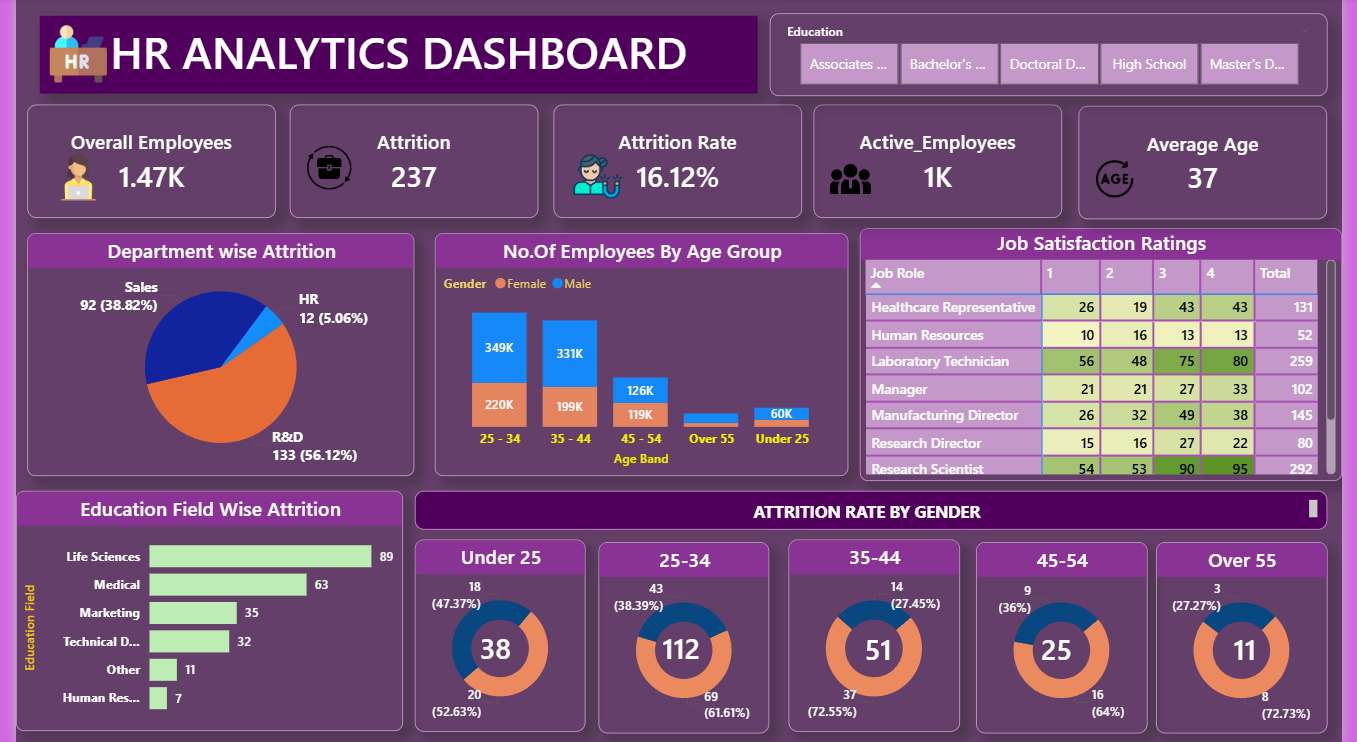

The dashboard page shown, as its layout file describes it:
{"tool":"powerbi","page":{"name":"Attrition Overview","canvas":[1280,720],"ordinal":0},"visuals":[{"type":"textbox","box":[23.3,17.8,693,75.5],"z":0},{"type":"image","box":[32.6,19.3,55.5,71.2],"z":1000},{"type":"pieChart","title":"Department wise Attrition","fields":{"Category":["HR data.Department"],"Y":["Sum(HR data.Attrition_Count)"]},"box":[10.9,228,374,234],"z":2000},{"type":"columnChart","title":"No.Of Employees By Age Group","fields":{"Category":["HR data.CF_age band"],"Y":["CountNonNull(HR data.Employee Number)"],"Series":["HR data.Gender"]},"box":[394.5,228,399.3,234],"z":3000},{"type":"pivotTable","title":"Job Satisfaction Ratings","fields":{"Rows":["HR data.Job Role"],"Columns":["HR data.Job Satisfaction"],"Values":["CountNonNull(HR data.Employee Number)"]},"box":[799.9,228,465.7,238.9],"z":4000},{"type":"barChart","title":"Education Field Wise Attrition","fields":{"Category":["HR data.Education Field"],"Y":["Sum(HR data.Attrition_Count)"],"Series":["HR data.Gender"]},"box":[10.9,479,374,231.6],"z":5000},{"type":"cardVisual","fields":{"Data":["HR data.Active_Employees"]},"box":[774.3,118.2,240.1,100],"z":6000},{"type":"cardVisual","fields":{"Data":["CountNonNull(HR data.Employee Count)"]},"box":[20.7,118.9,240.1,100],"z":6000,"group":"g7"},{"type":"cardVisual","fields":{"Data":["Sum(HR data.Attrition_Count)"]},"box":[271.9,120.6,240.1,100],"z":7000,"group":"g9"},{"type":"textbox","box":[400.5,476.5,861.4,45.8],"z":7000},{"type":"cardVisual","fields":{"Data":["HR data.Attrition_Rate"]},"box":[523.1,118.2,240.1,99.9],"z":8000,"group":"g5"},{"type":"donutChart","title":"25-34","fields":{"Category":["HR data.Gender"],"Series":["HR data.CF_age band"],"Y":["Sum(HR data.Attrition_Count)"]},"box":[565.8,521.2,174.9,184.6],"z":8000},{"type":"slicer","fields":{"Values":["HR data.Education"]},"box":[727.5,15.7,538.1,79.6],"z":9000},{"type":"cardVisual","fields":{"Data":["Avg(HR data.Age)"]},"box":[1025.5,117,240.1,100],"z":10000,"group":"g8"},{"type":"image","box":[781.8,154.4,47.1,42.2],"z":10000},{"type":"group","id":"g1","title":"Group 2","box":[400.5,521.2,165.3,185.8],"z":11000},{"type":"donutChart","title":"Under 25","fields":{"Category":["HR data.Gender"],"Y":["Sum(HR data.Attrition_Count)"],"Series":["HR data.CF_age band"]},"box":[400.5,521.2,165.3,185.8],"z":11000,"group":"g1"},{"type":"group","id":"g2","title":"Group 3","box":[740.8,521.2,174.9,185.8],"z":12000},{"type":"group","id":"g3","title":"Group 4","box":[915.7,521.2,174.9,184.6],"z":13000},{"type":"donutChart","title":"35-44","fields":{"Category":["HR data.Gender"],"Y":["Sum(HR data.Attrition_Count)"],"Series":["HR data.CF_age band"]},"box":[740.8,521.2,174.9,185.8],"z":14000,"group":"g10"},{"type":"group","id":"g4","title":"Group 5","box":[1087,521.2,174.9,184.6],"z":14000},{"type":"group","id":"g5","title":"Group 6","box":[523.1,118.2,240.1,100],"z":15000},{"type":"donutChart","title":"45-54","fields":{"Category":["HR data.Gender"],"Y":["Sum(HR data.Attrition_Count)"],"Series":["HR data.CF_age band"]},"box":[915.7,521.2,174.9,184.6],"z":15000,"group":"g3"},{"type":"group","id":"g6","title":"Group 7","box":[271.9,120.6,240.1,100],"z":16000},{"type":"donutChart","title":"Over 55","fields":{"Category":["HR data.Gender"],"Y":["Sum(HR data.Attrition_Count)"],"Series":["HR data.CF_age band"]},"box":[1087,521.2,174.9,184.6],"z":16000,"group":"g4"},{"type":"group","id":"g7","title":"Group 8","box":[20.7,118.9,240.1,100],"z":17000},{"type":"cardVisual","fields":{"Data":["Sum(HR data.Attrition_Count)"]},"box":[433.5,564.9,100.1,120.6],"z":17000,"group":"g1"},{"type":"group","id":"g8","title":"Group 10","box":[1025.5,117,240.1,100],"z":18000},{"type":"image","box":[1040,154.4,47.1,47.1],"z":19000},{"type":"cardVisual","fields":{"Data":["Sum(HR data.Attrition_Count)"]},"box":[788,565.8,106,119.4],"z":19000,"group":"g10"},{"type":"cardVisual","fields":{"Data":["Sum(HR data.Attrition_Count)"]},"box":[951.7,563.3,106,119.4],"z":20000,"group":"g3"},{"type":"cardVisual","fields":{"Data":["Sum(HR data.Attrition_Count)"]},"box":[603.2,569.4,124.3,112.2],"z":20000},{"type":"group","id":"g9","title":"Group 9","box":[271.9,120.6,240.1,100],"z":20001,"group":"g6"},{"type":"cardVisual","fields":{"Data":["Sum(HR data.Attrition_Count)"]},"box":[1135.7,563.9,114.6,125.5],"z":21000,"group":"g4"},{"type":"image","box":[33.1,153.9,50.7,51.9],"z":23000,"group":"g7"},{"type":"image","box":[285.1,145.1,47.1,57.8],"z":24000,"group":"g9"},{"type":"image","box":[542.4,154.4,47.1,49.4],"z":27000,"group":"g5"},{"type":"group","id":"g10","title":"Group 1","box":[740.8,521.2,174.9,185.8],"z":27011,"group":"g2"}]}

Visuals, with their boxes in screenshot pixels (x1, y1, x2, y2), scaled from the page's 1280x720 canvas onto the 1357x742 screenshot:
textbox: (25,18,759,96)
image: (35,20,93,93)
"Department wise Attrition" pieChart: (12,235,408,476)
"No.Of Employees By Age Group" columnChart: (418,235,842,476)
"Job Satisfaction Ratings" pivotTable: (848,235,1342,481)
"Education Field Wise Attrition" barChart: (12,494,408,732)
cardVisual - HR data.Active_Employees: (821,122,1075,225)
cardVisual - CountNonNull(HR data.Employee Count): (22,123,276,226)
cardVisual - Sum(HR data.Attrition_Count): (288,124,543,227)
textbox: (425,491,1338,538)
cardVisual - HR data.Attrition_Rate: (555,122,809,225)
"25-34" donutChart: (600,537,785,727)
slicer - HR data.Education: (771,16,1342,98)
cardVisual - Avg(HR data.Age): (1087,121,1342,224)
image: (829,159,879,203)
"Group 2" group: (425,537,600,729)
"Under 25" donutChart: (425,537,600,729)
"Group 3" group: (785,537,971,729)
"Group 4" group: (971,537,1156,727)
"35-44" donutChart: (785,537,971,729)
"Group 5" group: (1152,537,1338,727)
"Group 6" group: (555,122,809,225)
"45-54" donutChart: (971,537,1156,727)
"Group 7" group: (288,124,543,227)
"Over 55" donutChart: (1152,537,1338,727)
"Group 8" group: (22,123,276,226)
cardVisual - Sum(HR data.Attrition_Count): (460,582,566,706)
"Group 10" group: (1087,121,1342,224)
image: (1103,159,1152,208)
cardVisual - Sum(HR data.Attrition_Count): (835,583,948,706)
cardVisual - Sum(HR data.Attrition_Count): (1009,581,1121,704)
cardVisual - Sum(HR data.Attrition_Count): (639,587,771,702)
"Group 9" group: (288,124,543,227)
cardVisual - Sum(HR data.Attrition_Count): (1204,581,1326,710)
image: (35,159,89,212)
image: (302,150,352,209)
image: (575,159,625,210)
"Group 1" group: (785,537,971,729)
